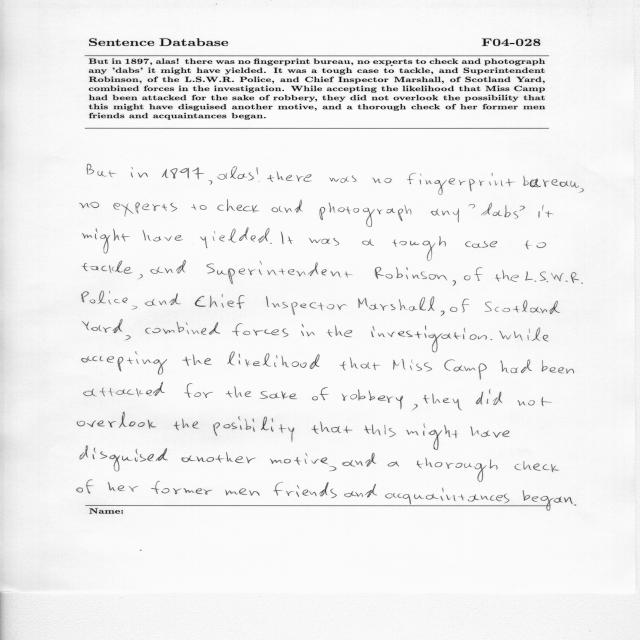word: (344, 484, 573, 505), (207, 261, 353, 284), (371, 326, 487, 353), (407, 173, 515, 195), (320, 202, 412, 227), (80, 446, 168, 471), (213, 416, 294, 442), (417, 457, 498, 482), (82, 352, 167, 375), (227, 352, 320, 369), (266, 296, 347, 315), (200, 228, 272, 248), (406, 423, 458, 450), (392, 236, 446, 261), (77, 412, 156, 429), (83, 228, 130, 254), (342, 390, 403, 410), (84, 382, 165, 397), (358, 296, 435, 311), (485, 300, 560, 314), (82, 320, 131, 341), (273, 482, 337, 498), (114, 202, 178, 217), (153, 321, 221, 335), (375, 267, 447, 280), (444, 360, 487, 380), (182, 452, 256, 463), (232, 323, 288, 337), (525, 271, 583, 284), (195, 294, 245, 309), (500, 327, 549, 342), (270, 453, 328, 465), (523, 176, 579, 188), (423, 394, 462, 411), (82, 261, 132, 274), (82, 291, 127, 305), (481, 202, 518, 219), (217, 199, 259, 213), (217, 166, 254, 181), (340, 358, 381, 371), (393, 359, 432, 372), (162, 168, 204, 180), (150, 260, 186, 274), (267, 171, 312, 182), (514, 461, 559, 472), (312, 422, 353, 434), (343, 453, 377, 467), (145, 293, 181, 306), (471, 426, 510, 438), (500, 360, 532, 374), (542, 360, 574, 374), (143, 230, 183, 241), (184, 383, 213, 398), (271, 200, 303, 213), (476, 389, 502, 405), (364, 425, 396, 438), (87, 164, 116, 178), (151, 481, 182, 494), (431, 209, 459, 223), (182, 354, 212, 366), (327, 325, 353, 337), (518, 397, 552, 406), (226, 386, 251, 398), (108, 482, 138, 492), (260, 391, 297, 399), (495, 270, 519, 282), (173, 419, 199, 430), (464, 267, 482, 281), (450, 299, 469, 312), (309, 238, 339, 246), (77, 480, 94, 494), (465, 241, 497, 248), (312, 387, 329, 400), (329, 175, 356, 183), (184, 488, 213, 495), (539, 205, 554, 218), (525, 241, 546, 250), (131, 167, 148, 178), (301, 324, 315, 336), (225, 489, 248, 496), (80, 202, 99, 208), (373, 178, 392, 183), (192, 204, 207, 210), (362, 239, 374, 246), (388, 462, 400, 467), (249, 490, 259, 496), (257, 167, 260, 182), (288, 237, 293, 245), (281, 232, 284, 244), (145, 328, 151, 334), (412, 404, 418, 410), (330, 466, 337, 471), (519, 206, 525, 211), (579, 188, 584, 193), (138, 274, 143, 279), (469, 204, 475, 208), (452, 280, 456, 286), (209, 180, 213, 185), (132, 306, 137, 310), (441, 311, 445, 316), (574, 505, 576, 506), (491, 339, 492, 340)
